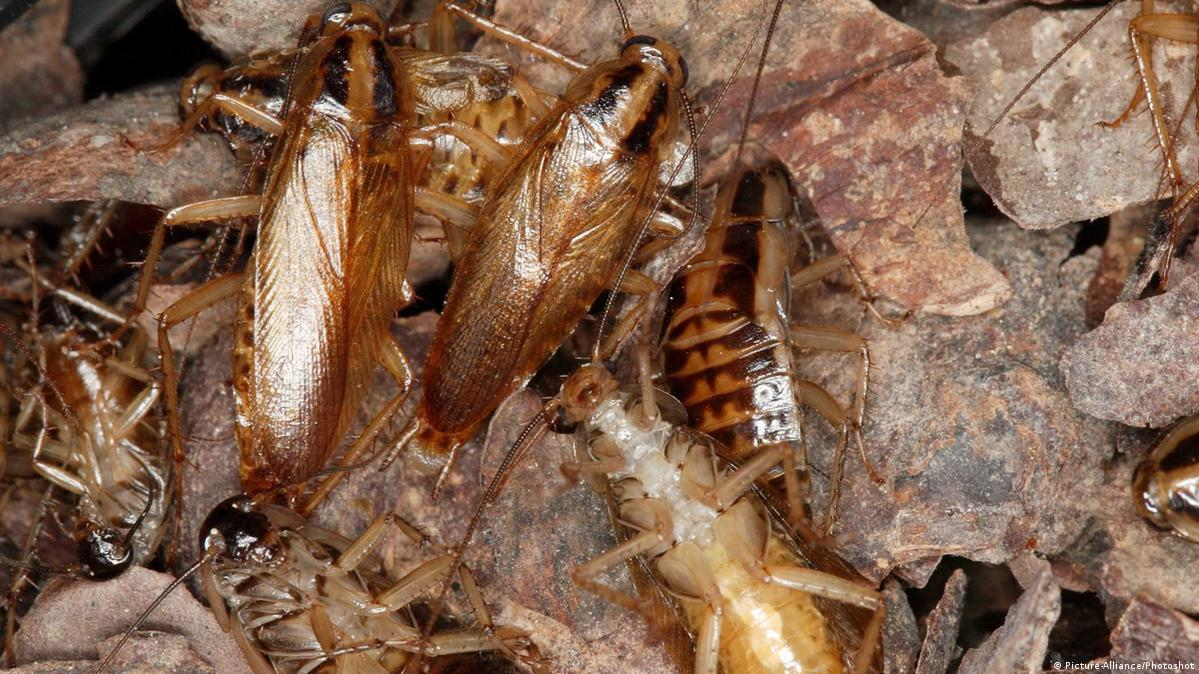cockroach: (420, 29, 688, 452), (556, 363, 890, 672), (223, 5, 412, 490), (652, 252, 818, 536), (191, 486, 432, 673), (24, 318, 170, 577), (179, 51, 516, 154)
